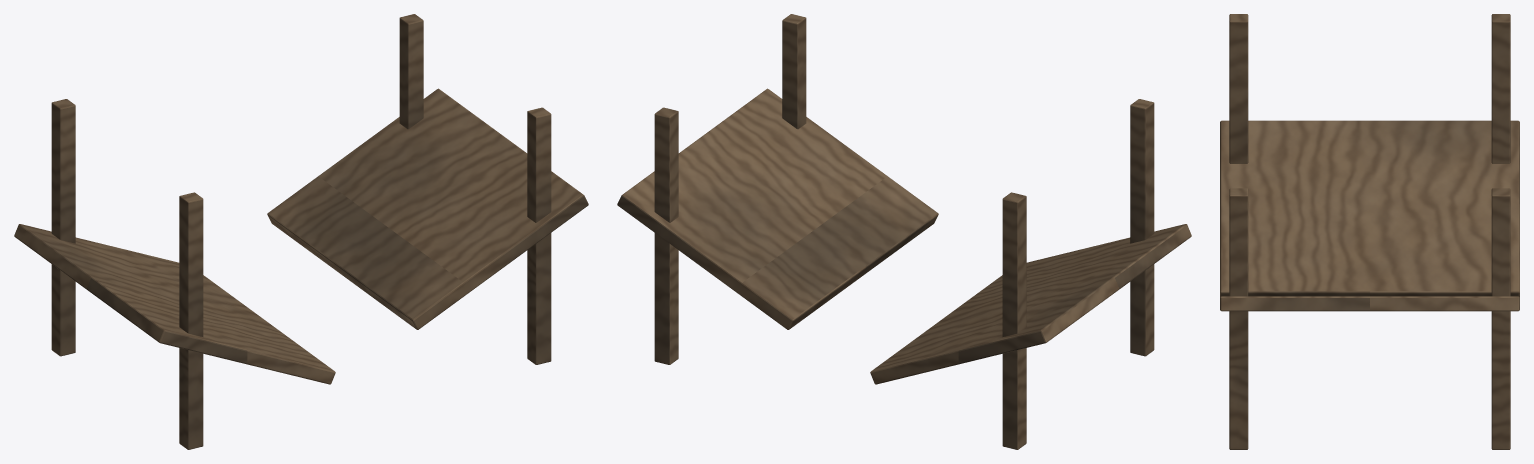
The model's file is BR02_broken_table_v2.glb.
The picture shows the model from 3 angles, left to right: view 1: azimuth 30°, elevation 25°; view 2: azimuth 150°, elevation 25°; view 3: azimuth 270°, elevation 25°; orthographic projection. The views are drawn at different scales.
Visible parts, largest first — view 1: BR02_broken_table_v2; view 2: BR02_broken_table_v2; view 3: BR02_broken_table_v2.
Part boxes in pixels (x1,y1,x2,y2): BR02_broken_table_v2: (14, 14, 588, 449); BR02_broken_table_v2: (617, 14, 1191, 449); BR02_broken_table_v2: (1220, 14, 1519, 449).
Bounding box in the file's own units: 1.2 × 0.6629 × 0.7071.
Materials: 1 (1 with a texture image).
